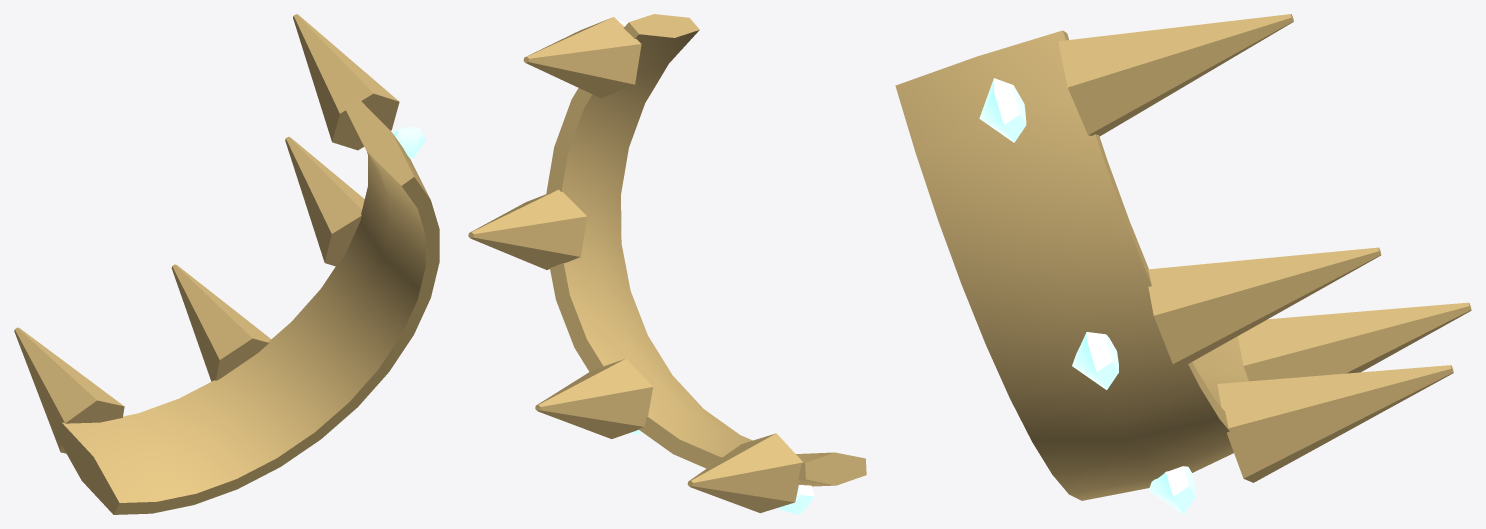
The model's file is quest_crown_fragment.glb.
The picture shows the model from 3 angles, left to right: view 1: azimuth 30°, elevation 25°; view 2: azimuth 150°, elevation 25°; view 3: azimuth 270°, elevation 25°; orthographic projection. The views are drawn at different scales.
Parts seen in each view (by area): view 1: quest_crown_fragment; view 2: quest_crown_fragment; view 3: quest_crown_fragment.
Boxes of the visible parts, x1,y1,x2,y2 form: quest_crown_fragment: (14, 14, 439, 514); quest_crown_fragment: (468, 14, 866, 514); quest_crown_fragment: (895, 14, 1471, 514).
Bounding box in the file's own units: 0.0906 × 0.1125 × 0.1008.
